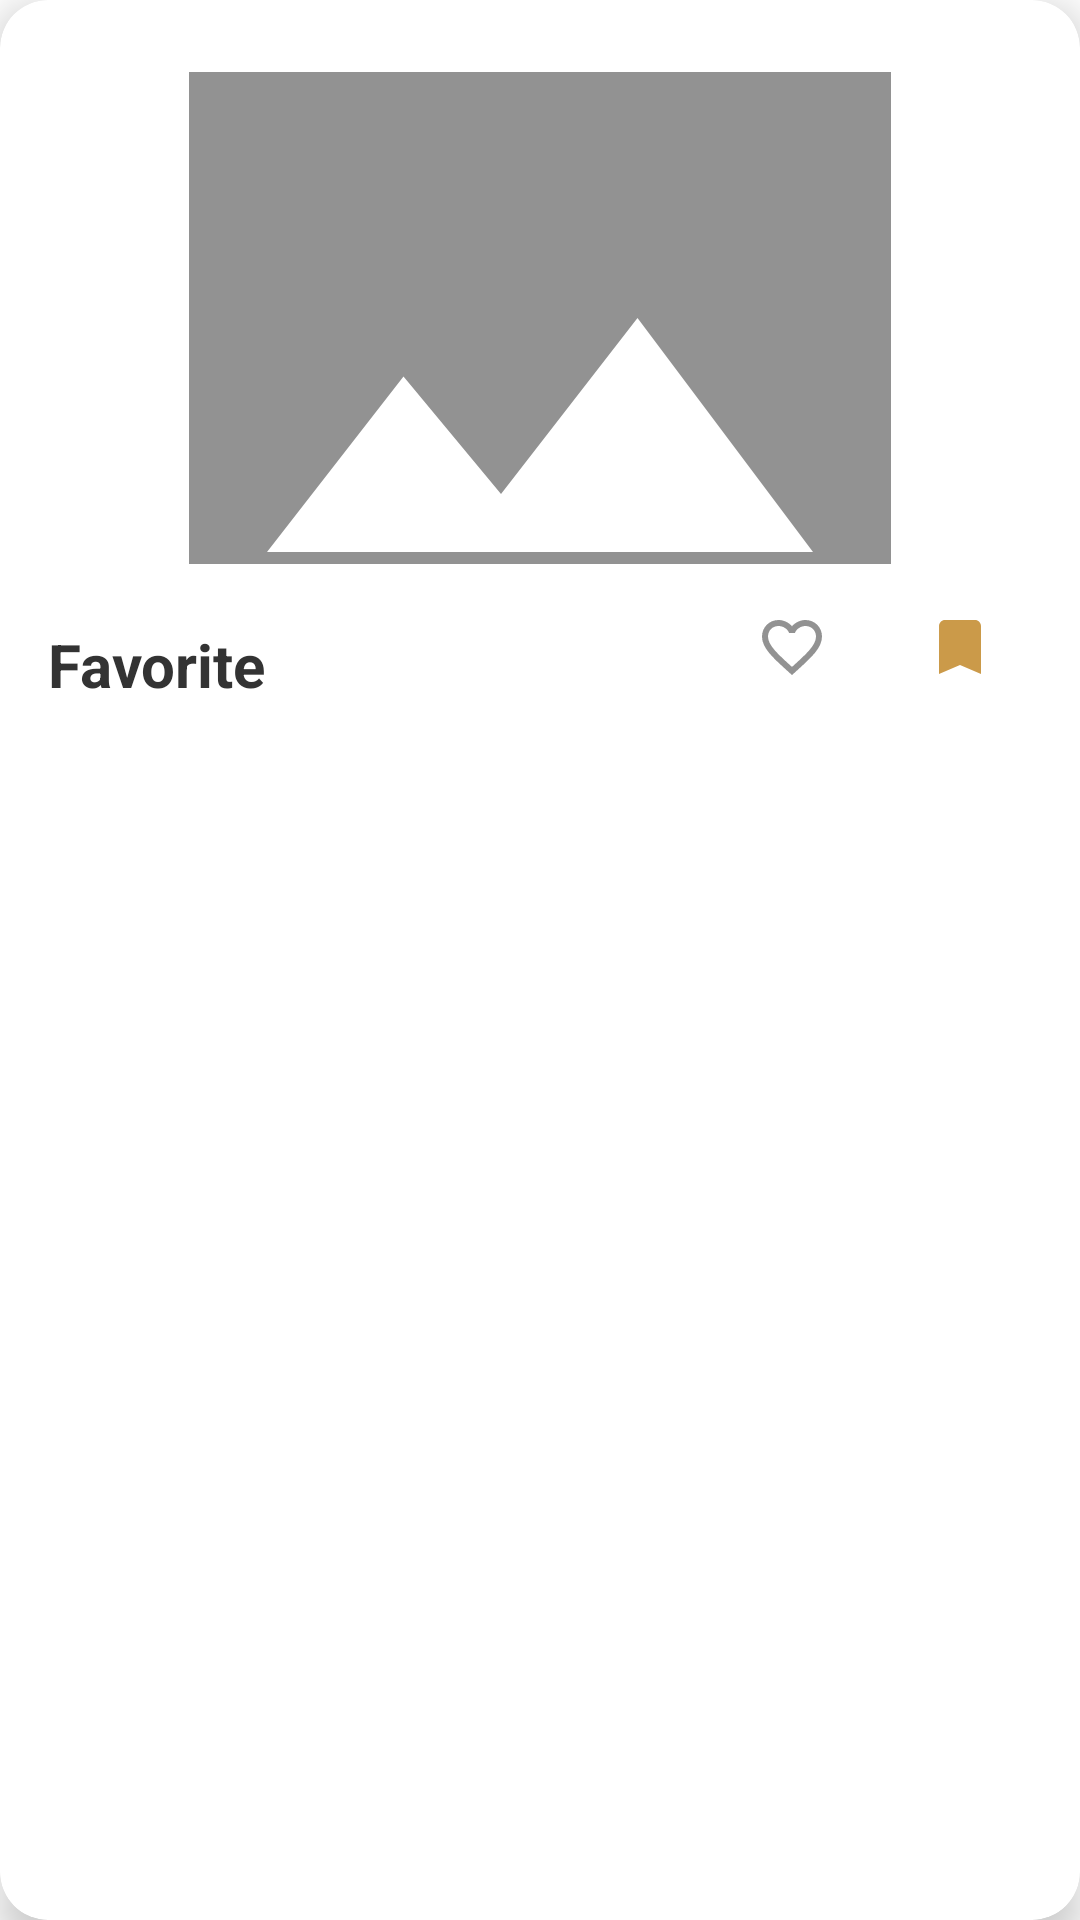

Screen size 1080px×1920px. Icon name, then its center in pixels as point (x, y):
Like: point (792, 647)
Save: point (960, 647)
